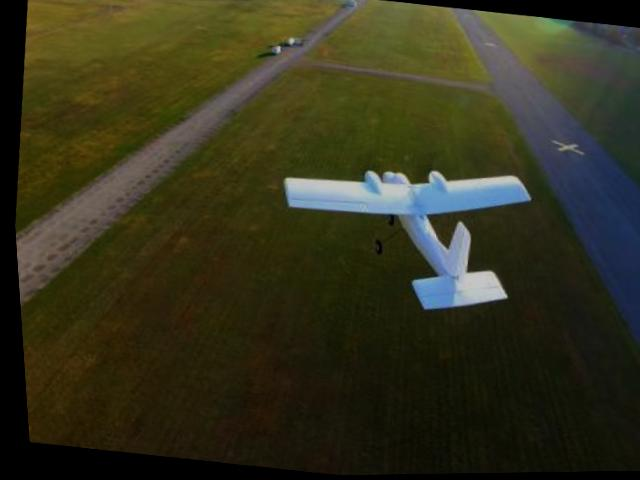uav: (263, 146, 542, 328)
